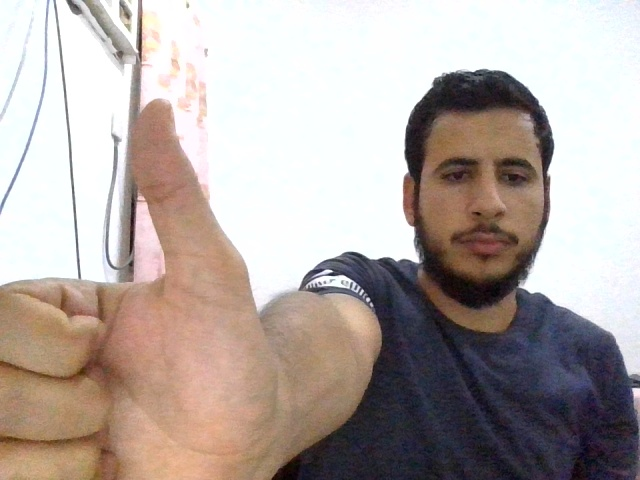One: (1, 98, 272, 480)
